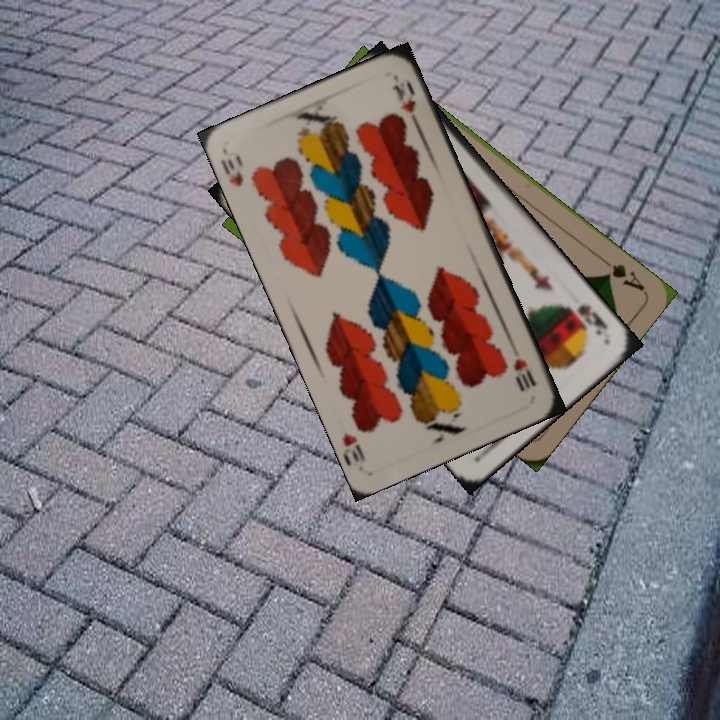GA: (596, 253, 648, 294)
H10: (509, 354, 539, 394), (217, 155, 246, 189)
SK: (572, 300, 611, 338)
